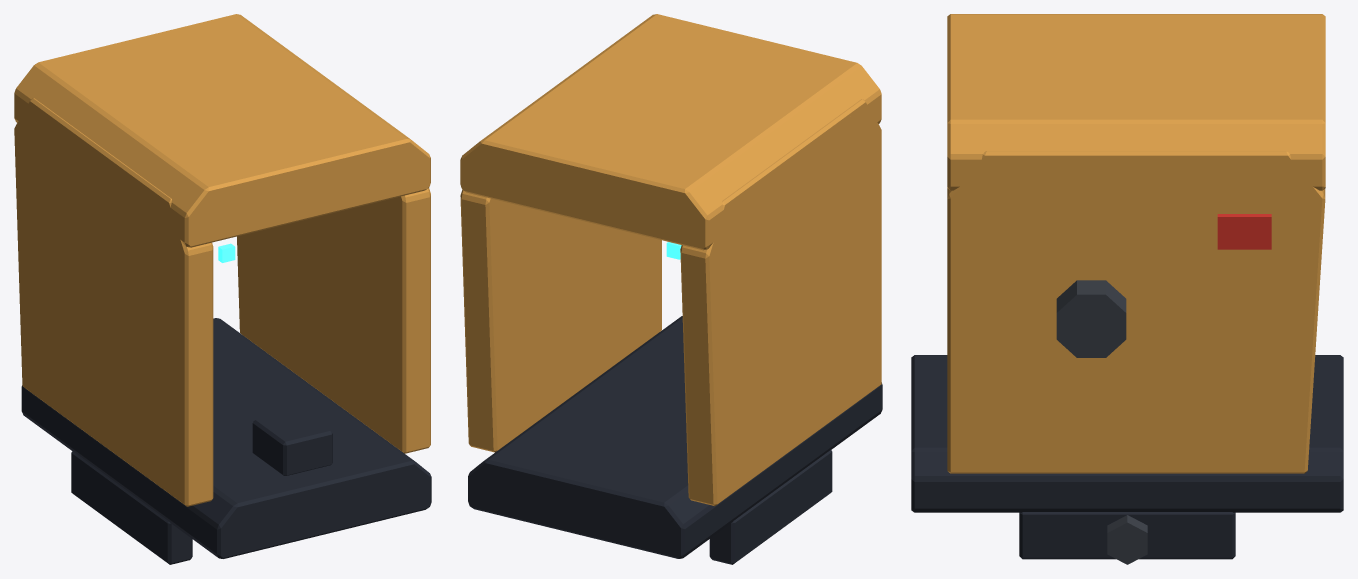
Rendered from reddot.glb.
The picture shows the model from 3 angles, left to right: view 1: azimuth 30°, elevation 25°; view 2: azimuth 150°, elevation 25°; view 3: azimuth 270°, elevation 25°; orthographic projection. The views are drawn at different scales.
Visible parts, largest first — view 1: reddot_hood, reddot_base; view 2: reddot_hood, reddot_base; view 3: reddot_hood, reddot_base, reddot_knobs, reddot_mark.
Part boxes in pixels (x1,y1,x2,y2): reddot_hood: [14, 14, 430, 506]; reddot_base: [21, 318, 431, 564]; reddot_hood: [460, 14, 881, 505]; reddot_base: [468, 316, 882, 564]; reddot_hood: [947, 14, 1325, 473]; reddot_base: [911, 355, 1343, 559]; reddot_knobs: [1056, 280, 1147, 564]; reddot_mark: [1217, 214, 1271, 249].
Bounding box in the file's own units: 0.0382 × 0.0535 × 0.048.
